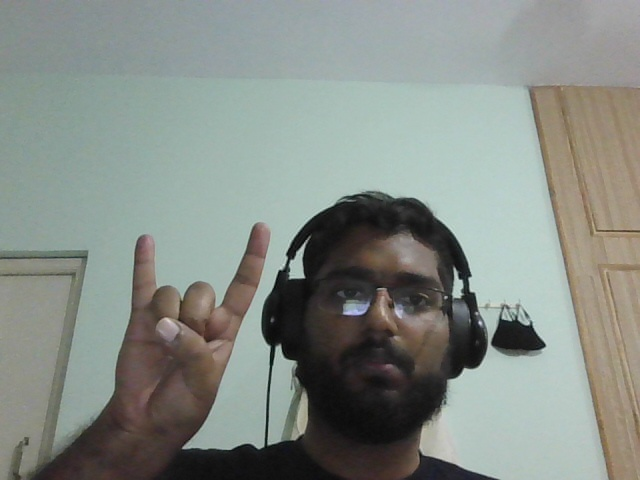I Love You: (111, 218, 280, 447)
